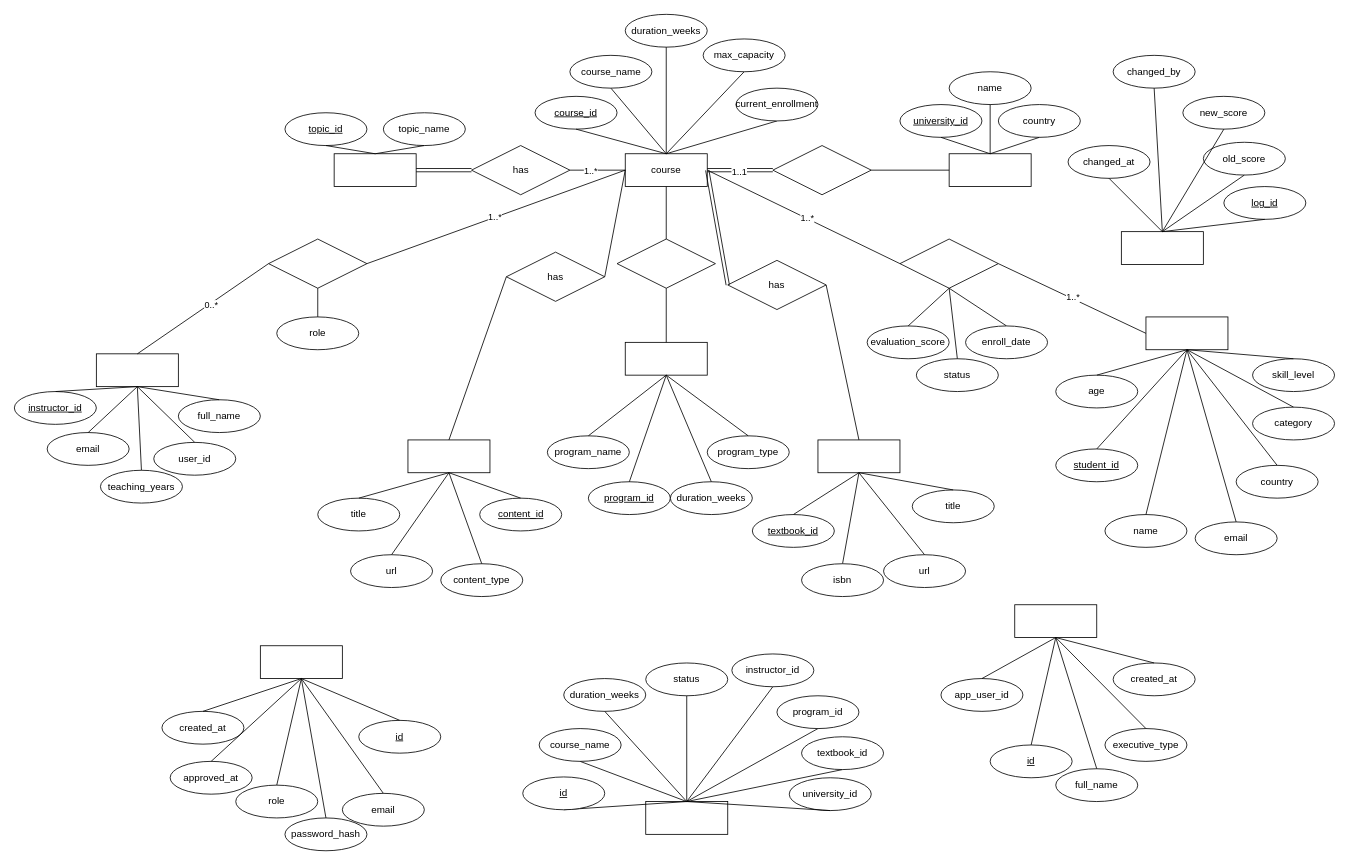
Some shapes in this 1349 by 865 pixel diagram are drawn without their labels. The centre of each missing label's shape, as x and y in pixels:
"app_user" belongs at point (301, 662).
"audit_log" belongs at point (1162, 247).
"contains" belongs at point (665, 263).
"content_item" belongs at point (448, 456).
"course_proposal" belongs at point (686, 817).
"enrollment" belongs at point (948, 263).
"executive" belongs at point (1055, 621).
"Instructor" belongs at point (137, 370).
"partners with" belongs at point (821, 170).
"program" belongs at point (665, 358).
"student" belongs at point (1186, 333).
"teaching_assignment" belongs at point (317, 263).
"textbook" belongs at point (858, 456).
"topic" belongs at point (374, 170).
"university" belongs at point (989, 170).
